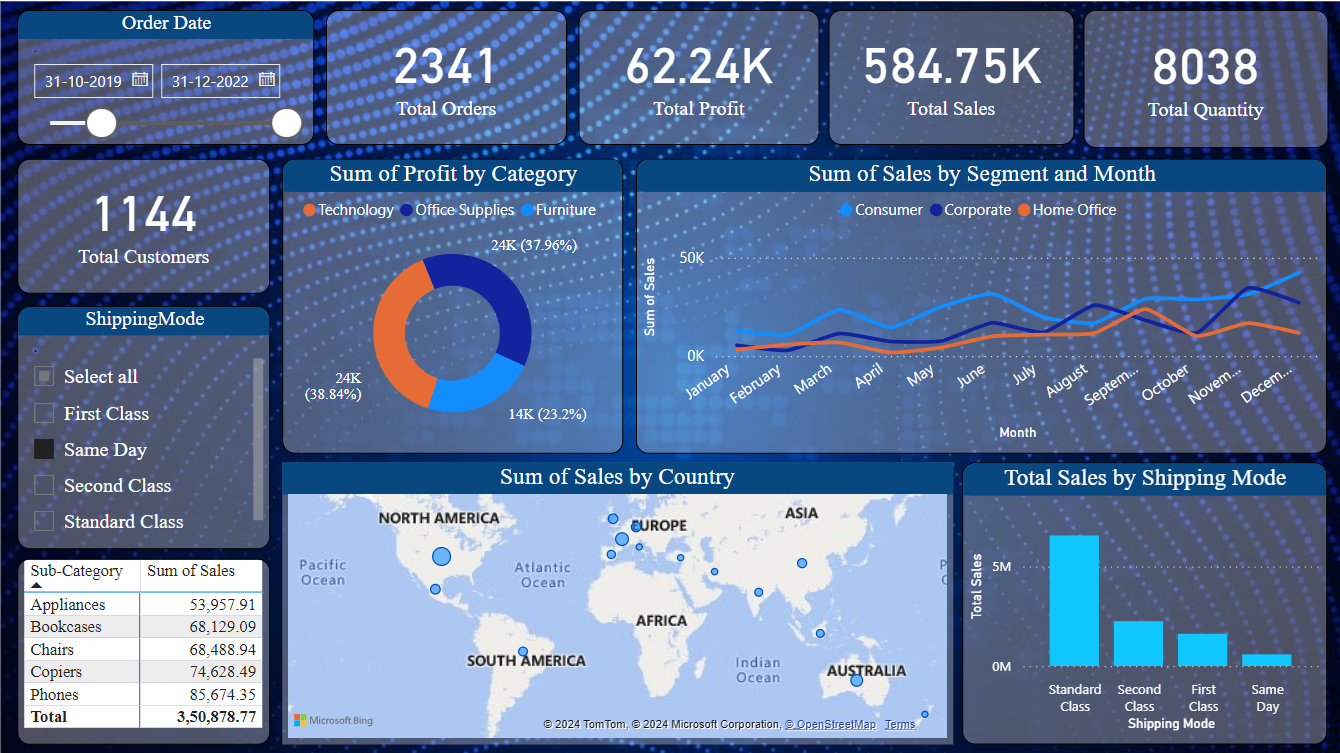

This screenshot's page, from the dashboard's own definition file:
{"tool":"powerbi","page":{"name":"Page 1","canvas":[1280,720],"ordinal":0},"visuals":[{"type":"card","fields":{"Values":["Sum(Sales.Profit)"]},"box":[566.3,64,193,108.1],"z":0},{"type":"card","fields":{"Values":["Count(Sales.Customer ID)"]},"box":[117,183,203,101],"z":1000},{"type":"card","fields":{"Values":["Sum(Sales.Sales)"]},"box":[766,64,197,108],"z":2000},{"type":"card","fields":{"Values":["CountNonNull(Sales.Order ID)"]},"box":[364,64,193,108.1],"z":3000},{"type":"card","fields":{"Values":["Sum(Sales.Quantity)"]},"box":[970,64,196,111],"z":4000},{"type":"slicer","title":"ShippingMode","fields":{"Values":["Sales.Shipping Mode"]},"box":[117,292,203,204],"z":5000},{"type":"lineChart","title":"Sum of Sales by Segment and Month","fields":{"Y":["Sum(Sales.Sales)"],"Series":["Sales.Segment"],"Category":["Sales.Month Name"]},"box":[612,182.5,553,236],"z":6000},{"type":"map","fields":{"Category":["Sales.Country"],"Size":["Sum(Sales.Sales)"]},"box":[329,426,537,226],"z":7000},{"type":"pivotTable","fields":{"Rows":["Sales.Sub-Category"],"Values":["Sum(Sales.Sales)"]},"box":[117,503,203,149],"z":8000},{"type":"donutChart","fields":{"Category":["Sales.Category"],"Y":["Sum(Sales.Profit)"]},"box":[329,183,276,236],"z":9000},{"type":"clusteredColumnChart","fields":{"Y":["Sum(Sales.Sales)"],"Category":["Sales.Shipping Mode"]},"box":[873,426,292,226],"z":10000},{"type":"slicer","title":"Order Date","fields":{"Values":["Sales.Order Date"]},"box":[117,64,240,108],"z":10001}]}

Visuals, with their boxes in screenshot pixels (x1, y1, x2, y2), scaled from the page's 1280x720 canvas onto the 1340x753 screenshot:
card - Sum(Sales.Profit): pyautogui.locateOnScreen(593, 67, 795, 180)
card - Count(Sales.Customer ID): pyautogui.locateOnScreen(122, 191, 335, 297)
card - Sum(Sales.Sales): pyautogui.locateOnScreen(802, 67, 1008, 180)
card - CountNonNull(Sales.Order ID): pyautogui.locateOnScreen(381, 67, 583, 180)
card - Sum(Sales.Quantity): pyautogui.locateOnScreen(1015, 67, 1221, 183)
"ShippingMode" slicer: pyautogui.locateOnScreen(122, 305, 335, 519)
"Sum of Sales by Segment and Month" lineChart: pyautogui.locateOnScreen(641, 191, 1220, 438)
map - Sales.Country x Sum(Sales.Sales): pyautogui.locateOnScreen(344, 446, 907, 682)
pivotTable - Sales.Sub-Category x Sum(Sales.Sales): pyautogui.locateOnScreen(122, 526, 335, 682)
donutChart - Sales.Category x Sum(Sales.Profit): pyautogui.locateOnScreen(344, 191, 633, 438)
clusteredColumnChart - Sum(Sales.Sales) x Sales.Shipping Mode: pyautogui.locateOnScreen(914, 446, 1220, 682)
"Order Date" slicer: pyautogui.locateOnScreen(122, 67, 374, 180)
